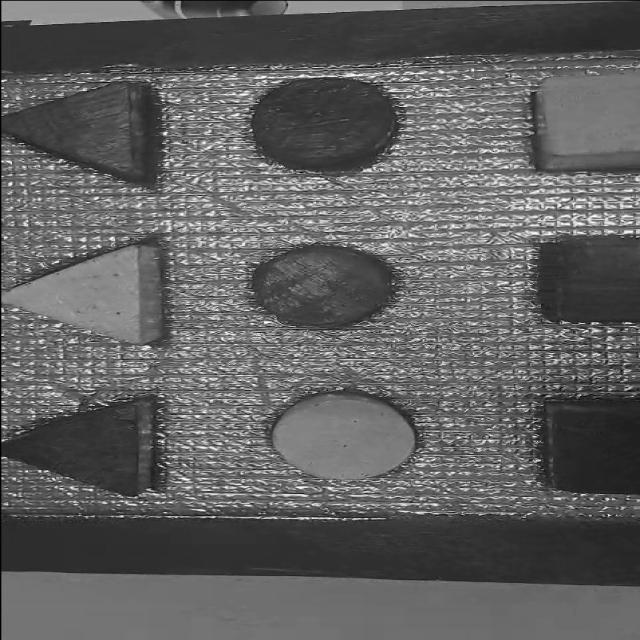bcircle: (234, 74, 430, 184)
bcube: (515, 222, 640, 336)
btriangle: (0, 381, 180, 512)
rcircle: (241, 239, 401, 338)
rcube: (515, 388, 640, 505)
rtriangle: (2, 72, 175, 195)
ycircle: (248, 379, 435, 490)
ycube: (515, 64, 640, 186)
ytriangle: (7, 229, 196, 357)
